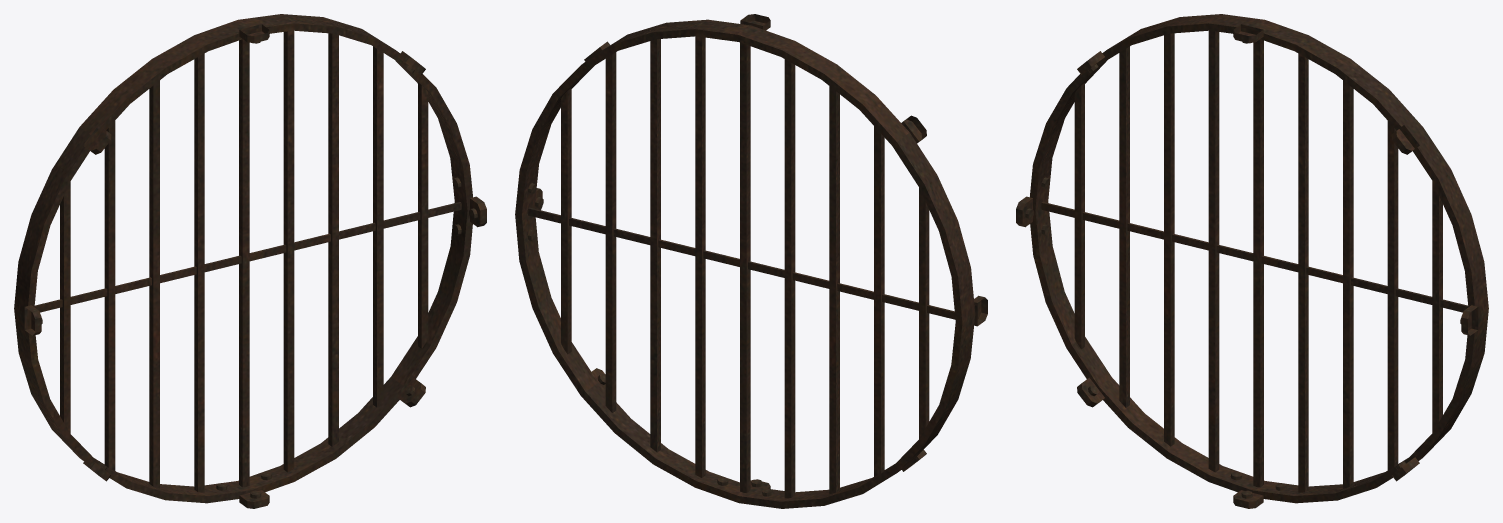
The model's file is concrete_pipe_hm_1_end_bars_1.dae.
3 views of the same model, side by side, from view 1: azimuth 30°, elevation 25°; view 2: azimuth 150°, elevation 25°; view 3: azimuth 330°, elevation 25° (orthographic).
Visible parts, largest first — view 1: concrete_pipe_hm_1_end_bars_1; view 2: concrete_pipe_hm_1_end_bars_1; view 3: concrete_pipe_hm_1_end_bars_1.
Part boxes in pixels (<box>): concrete_pipe_hm_1_end_bars_1: <box>14,14,486,508</box>; concrete_pipe_hm_1_end_bars_1: <box>515,14,987,508</box>; concrete_pipe_hm_1_end_bars_1: <box>1016,14,1488,508</box>.
Size of the model in its own units: 2.02 by 0.18 by 2.02.
Materials: 1 (1 with a texture image).
